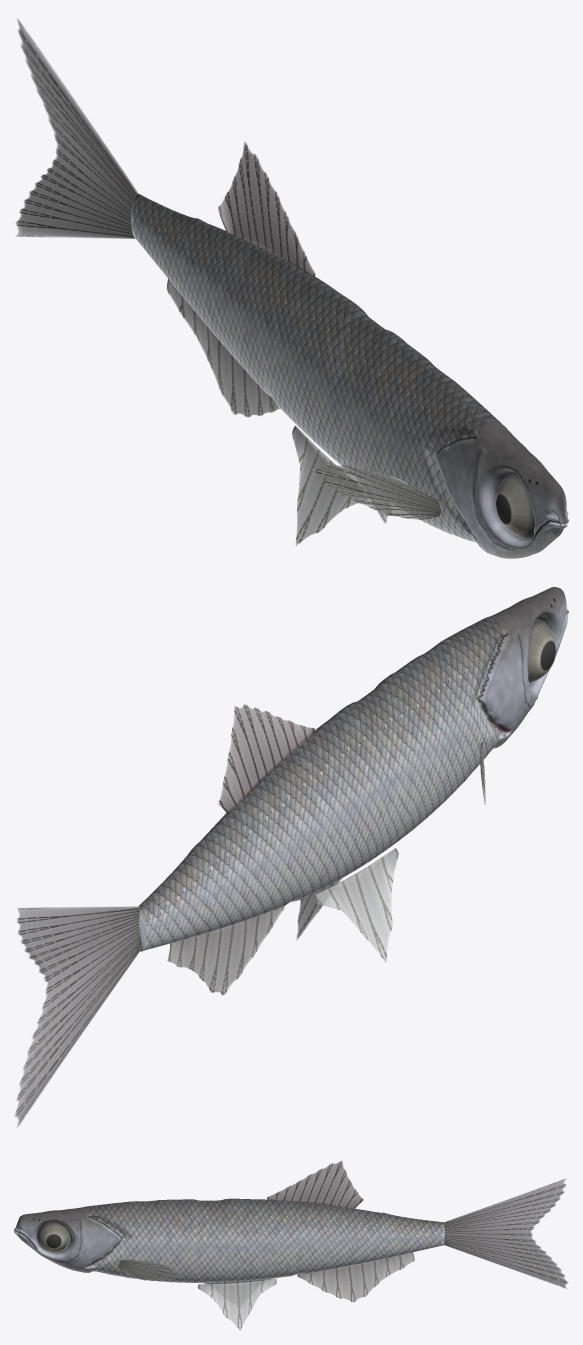
The model's file is ukleja.glb.
The picture shows the model from 3 angles, top to bottom: view 1: azimuth 30°, elevation 25°; view 2: azimuth 150°, elevation 25°; view 3: azimuth 270°, elevation 25°; orthographic projection. The views are drawn at different scales.
Parts seen in each view (by area): view 1: Body, FinCaudal, FinDorsal1, FinPelvic, FinPectoral, FinAnal, CorneaLeft, EyeLeft; view 2: Body, FinCaudal, FinDorsal1, FinPelvic, FinAnal, CorneaLeft, EyeLeft; view 3: Body, FinCaudal, FinAnal, FinDorsal1, FinPelvic, FinPectoral, EyeRight, CorneaRight.
Part boxes in pixels (x1,y1,x2,y2): Body: [131, 194, 568, 558]; FinCaudal: [16, 19, 138, 238]; FinDorsal1: [217, 141, 315, 277]; FinPelvic: [292, 425, 391, 545]; FinPectoral: [312, 464, 441, 520]; FinAnal: [166, 279, 280, 417]; CorneaLeft: [495, 475, 534, 537]; EyeLeft: [496, 475, 534, 537]; Body: [138, 587, 568, 951]; FinCaudal: [15, 906, 139, 1127]; FinDorsal1: [218, 704, 314, 814]; FinPelvic: [296, 848, 398, 962]; FinAnal: [167, 906, 284, 995]; CorneaLeft: [528, 619, 556, 682]; EyeLeft: [527, 619, 555, 682]; Body: [14, 1198, 444, 1282]; FinCaudal: [444, 1178, 568, 1288]; FinAnal: [297, 1252, 414, 1302]; FinDorsal1: [267, 1161, 363, 1208]; FinPelvic: [197, 1278, 276, 1330]; FinPectoral: [118, 1259, 181, 1281]; EyeRight: [37, 1222, 68, 1251]; CorneaRight: [37, 1222, 68, 1251].
Bounding box in the file's own units: 0.1826 × 0.3203 × 1.
Materials: 8 (7 with a texture image).
